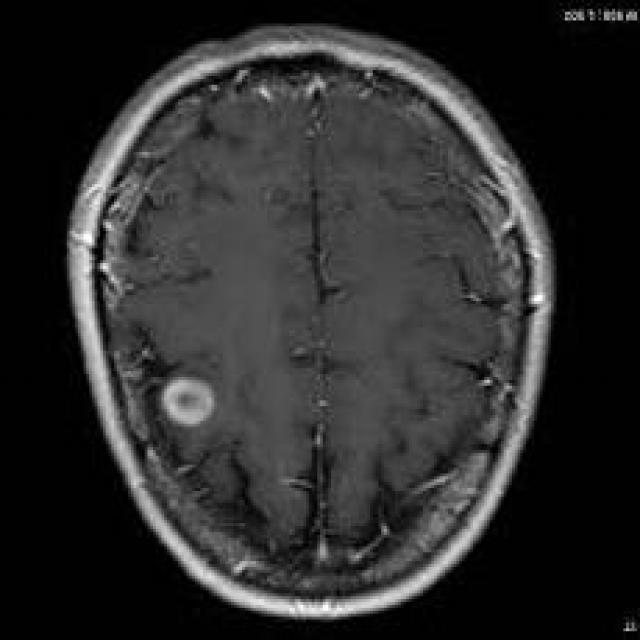Tumor: (160, 378, 216, 426)
